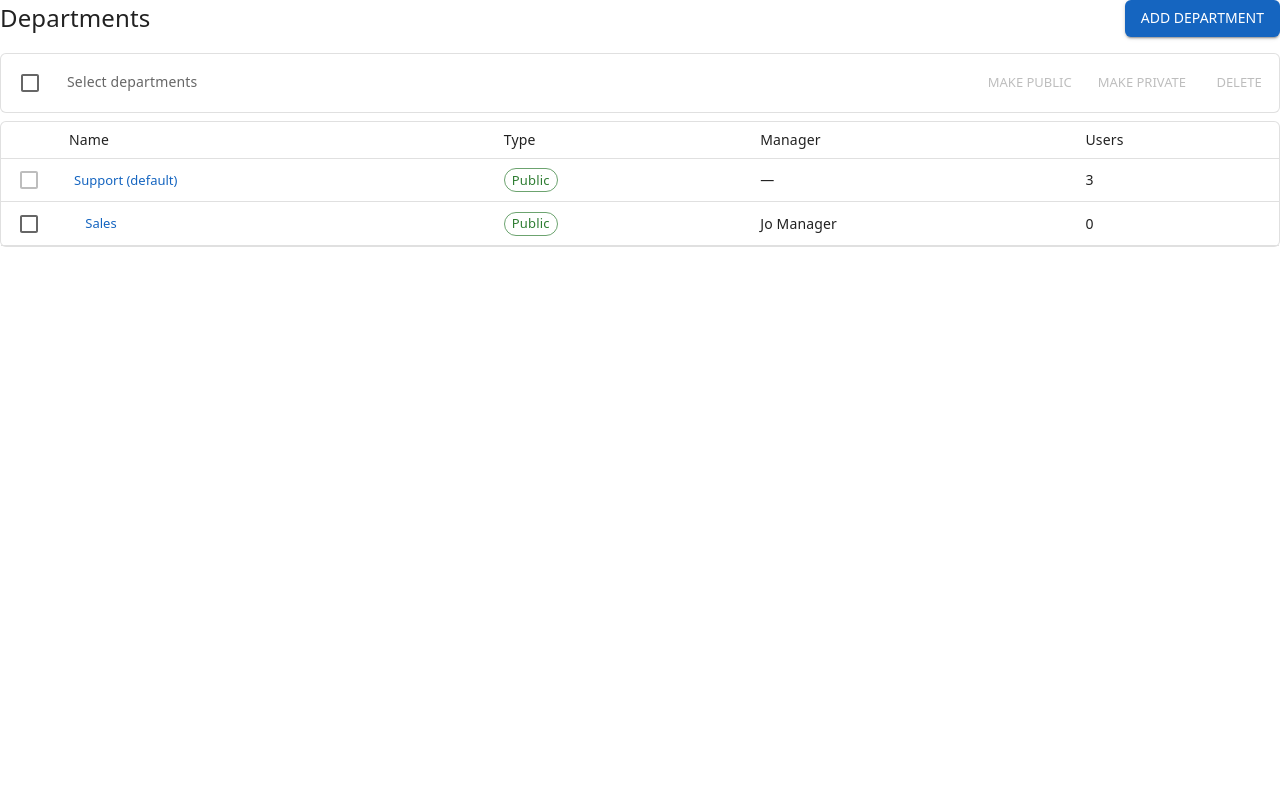
Test case: DeptListPage (TS-M4-C2) › AC-4: setting the default department private is rejected inline
Click the button with test id "dept-edit-1". click: (126, 180)
box: top-left (69, 164), bottom-right (182, 195)
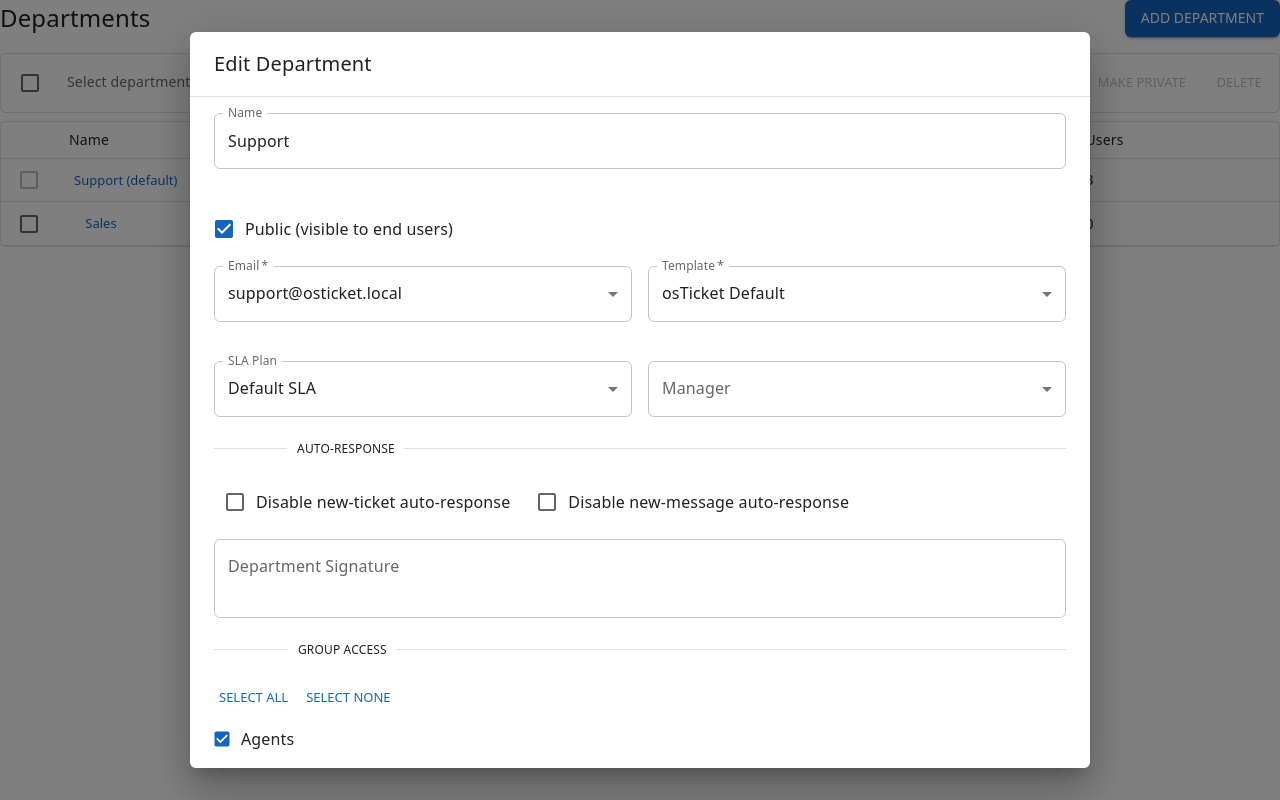
Now the field with test id "dept-name" holds "Support", box top-left (214, 113), bottom-right (1066, 169)
// wait for detail to load (name prefilled)
Click the element with test id "dept-ispublic". click: (224, 229)
box: top-left (212, 217), bottom-right (236, 241)
(page scrolled)
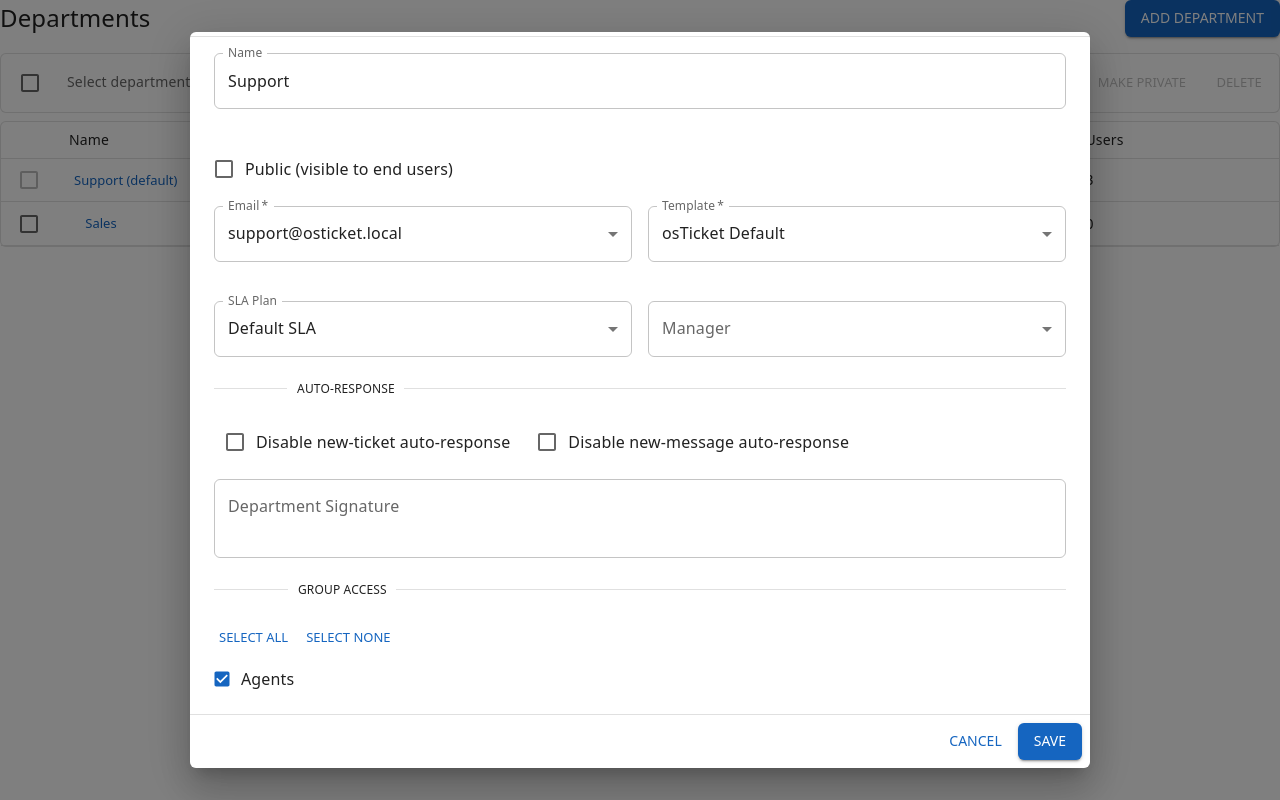
Click the button with test id "dept-save". click: (1050, 742)
box: top-left (1018, 723), bottom-right (1082, 760)
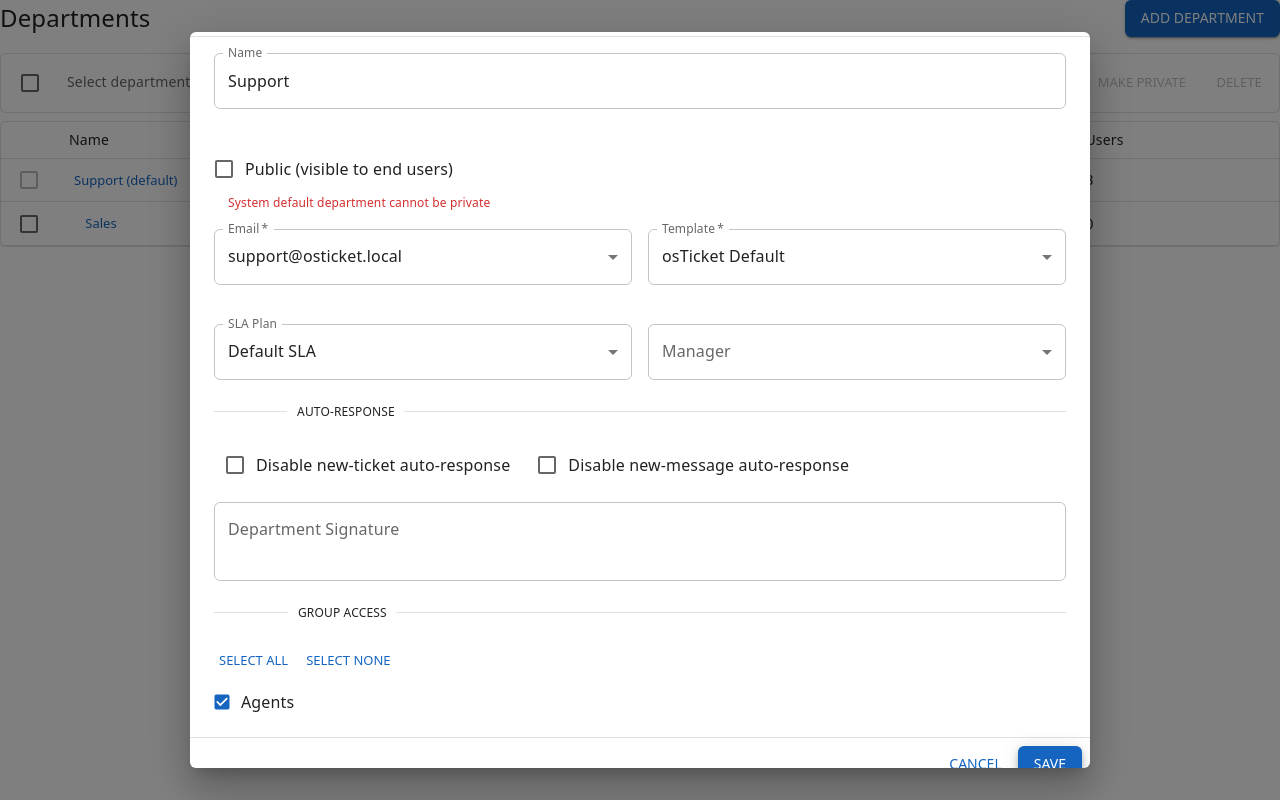
Now the text "System default department cannot be private" is shown, box top-left (228, 194), bottom-right (490, 211)
